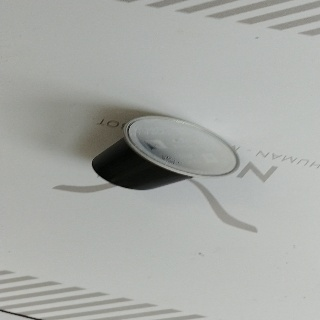capsule_10: (90, 113, 239, 192)
